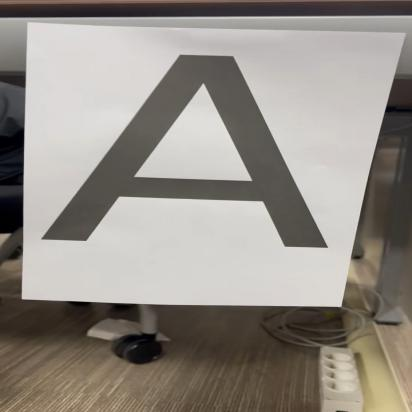seat: (36, 41, 340, 255)
